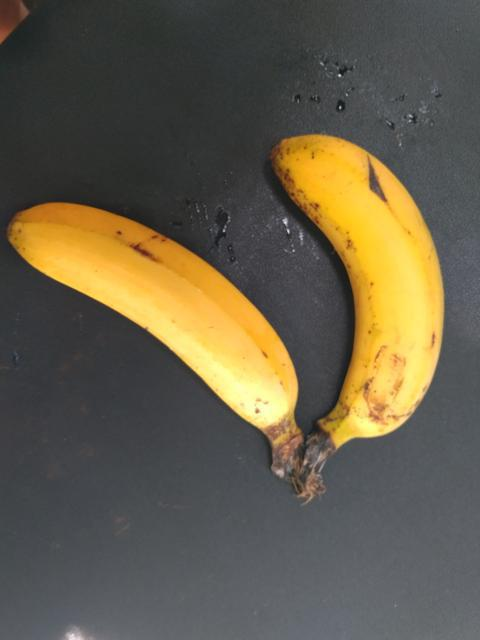freshripe: (26, 179, 356, 483)
ripe: (274, 126, 476, 492)
